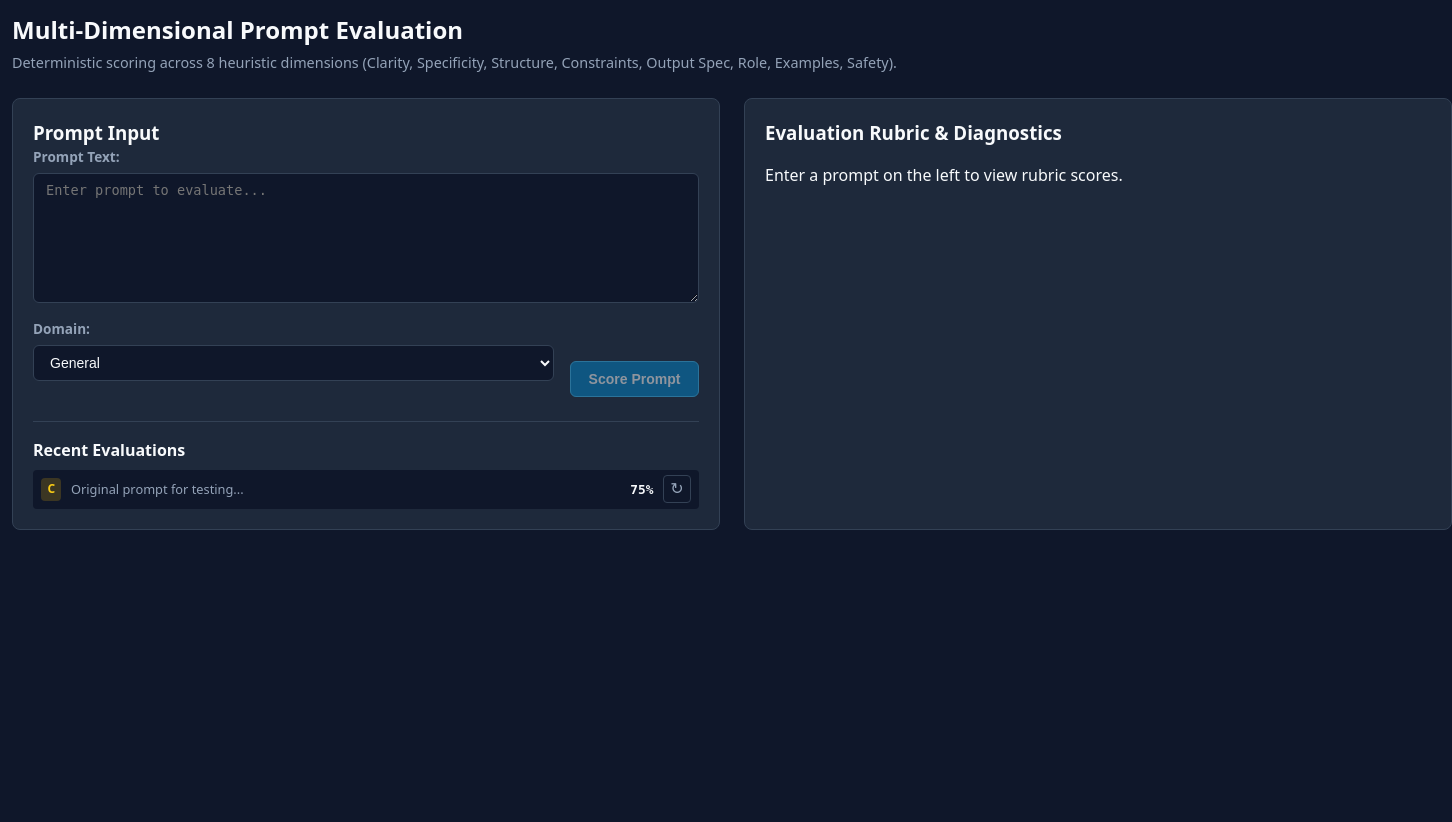
EvaluateView Component › reruns evaluation from history item
Check: the text "Original prompt for testing..." is shown, box [71,480,244,498]
Click rerun button (↻) on the history item
Click the button titled "Rerun evaluation": (677, 489) [663,475,691,503]
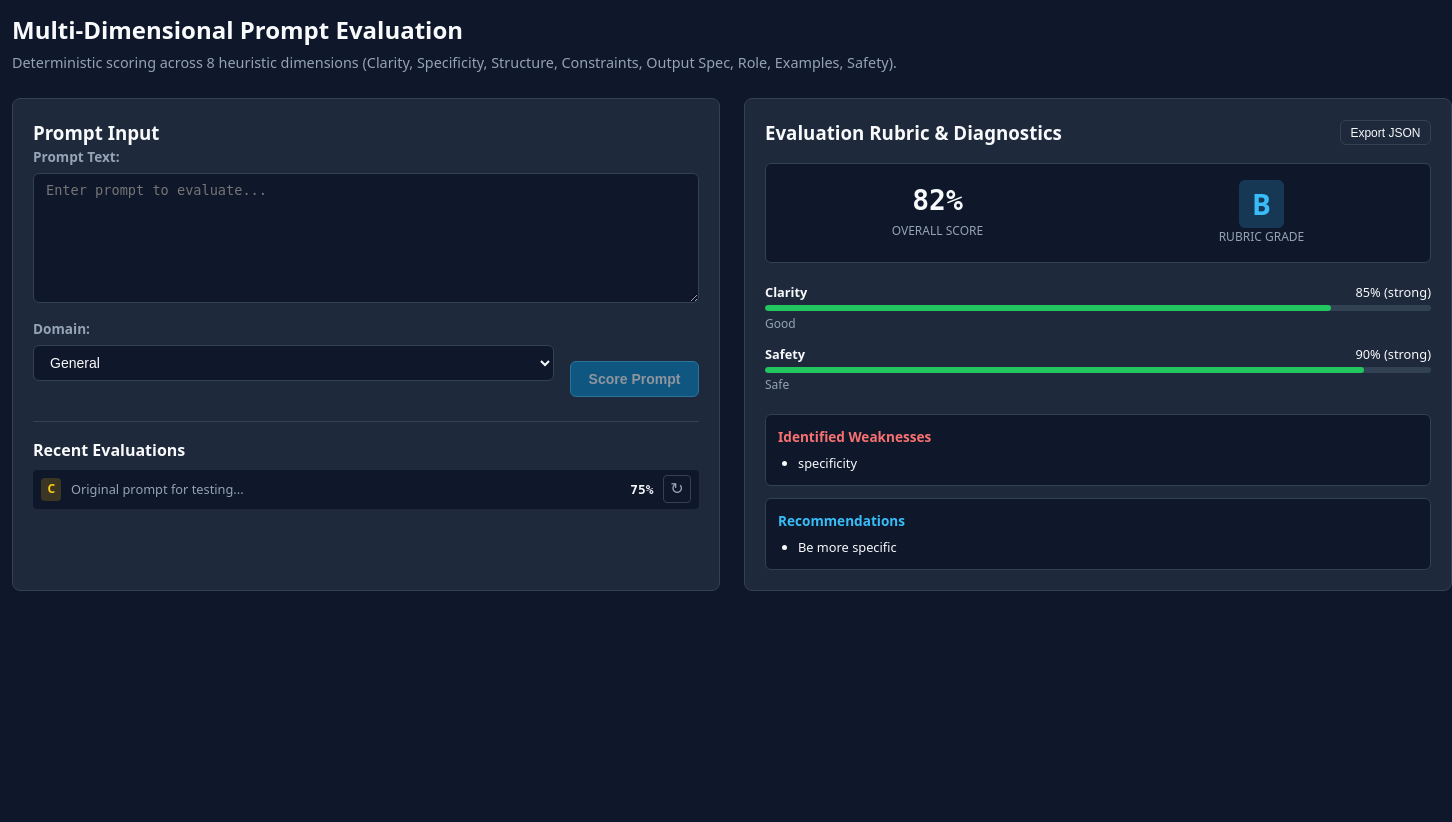
Check: the text "82%" is shown, box [912,180,963,222]
Check: the text "B" is shown, box [1239,180,1284,228]
